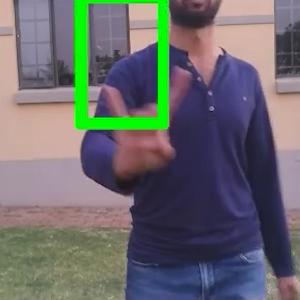takeoff-hand: (96, 61, 192, 180)
